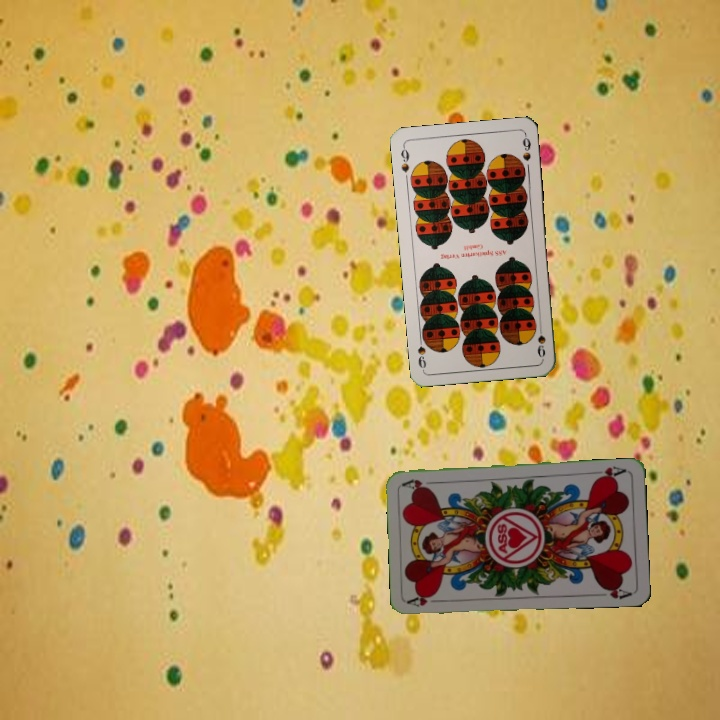HA: (588, 462, 629, 482), (405, 590, 446, 609)
S9: (534, 319, 548, 360), (397, 142, 412, 175)
